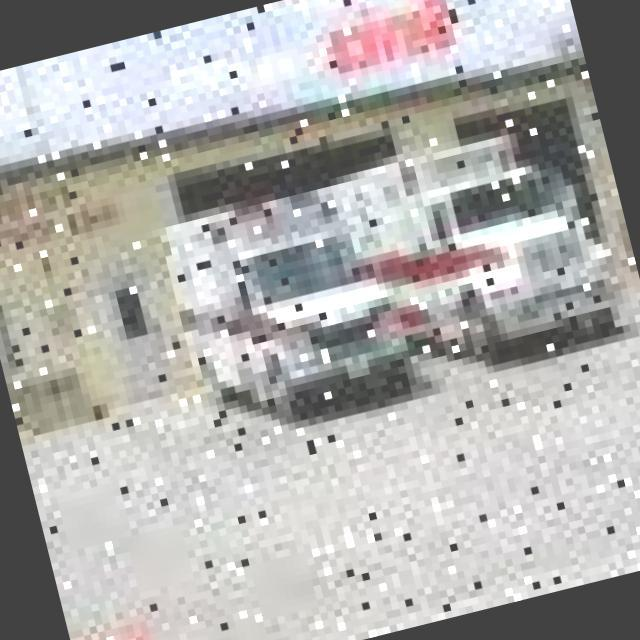emergency-vehicle: (352, 96, 628, 379), (152, 171, 416, 450)
